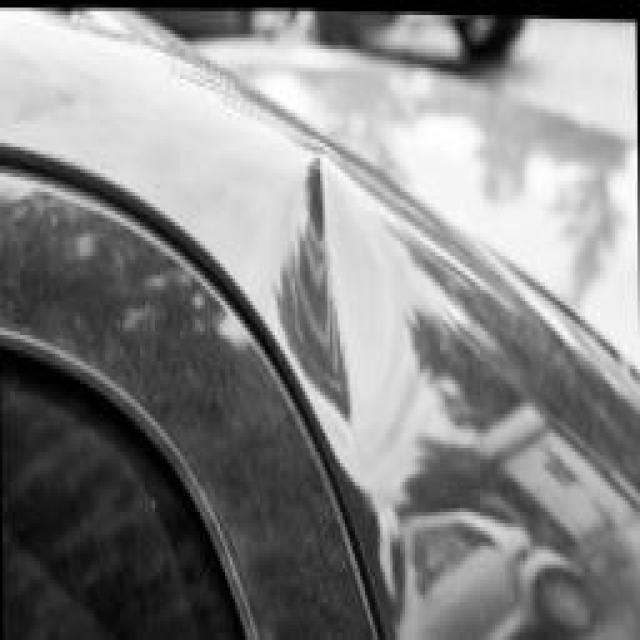Fender: (212, 109, 640, 640)
